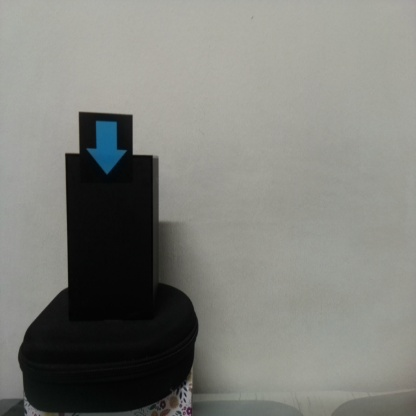id_2: (78, 113, 133, 187)
